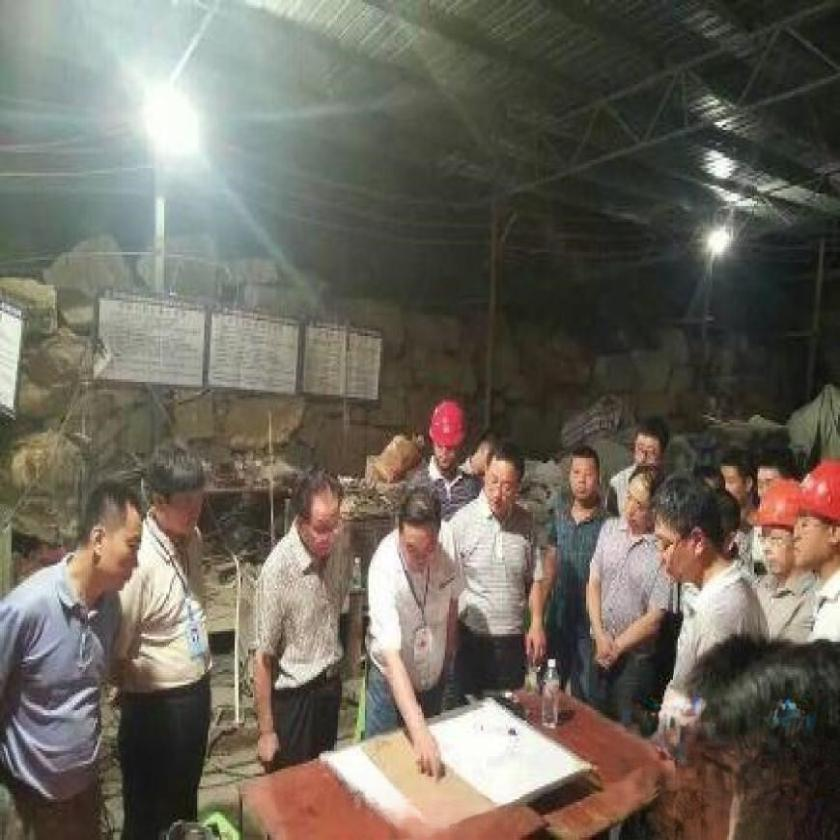Con_casco: (785, 461, 840, 581), (422, 402, 468, 471)
Sin_casco: (648, 456, 732, 598), (69, 478, 150, 604), (288, 447, 351, 580), (143, 432, 209, 542), (384, 477, 449, 577), (479, 421, 527, 530), (565, 440, 603, 509)
